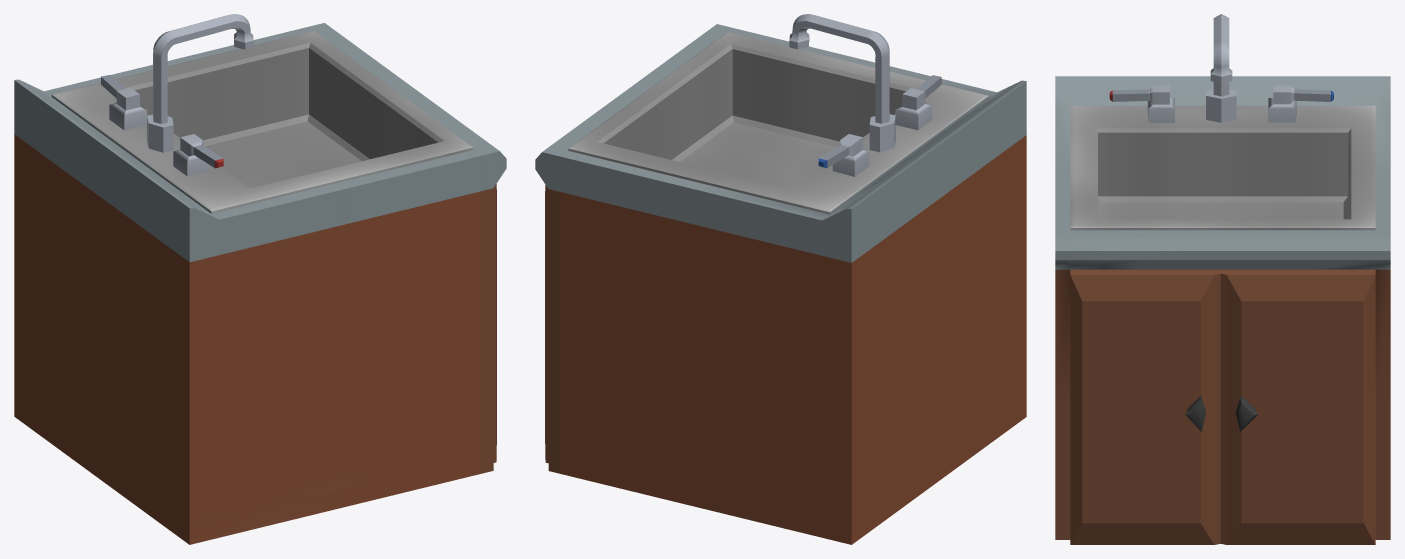
The model's file is kitchenSink.fbx.
3 renders of one model, left to right at view 1: azimuth 30°, elevation 25°; view 2: azimuth 150°, elevation 25°; view 3: azimuth 270°, elevation 25°, orthographic. The views are drawn at different scales.
Parts seen in each view (by area): view 1: cabinet; view 2: cabinet; view 3: cabinet.
Boxes of the visible parts, x1,y1,x2,y2 form: cabinet: (14, 14, 506, 544); cabinet: (535, 14, 1026, 544); cabinet: (1055, 14, 1390, 544).
Size of the model in its own units: 2.23 by 2.74 by 2.
